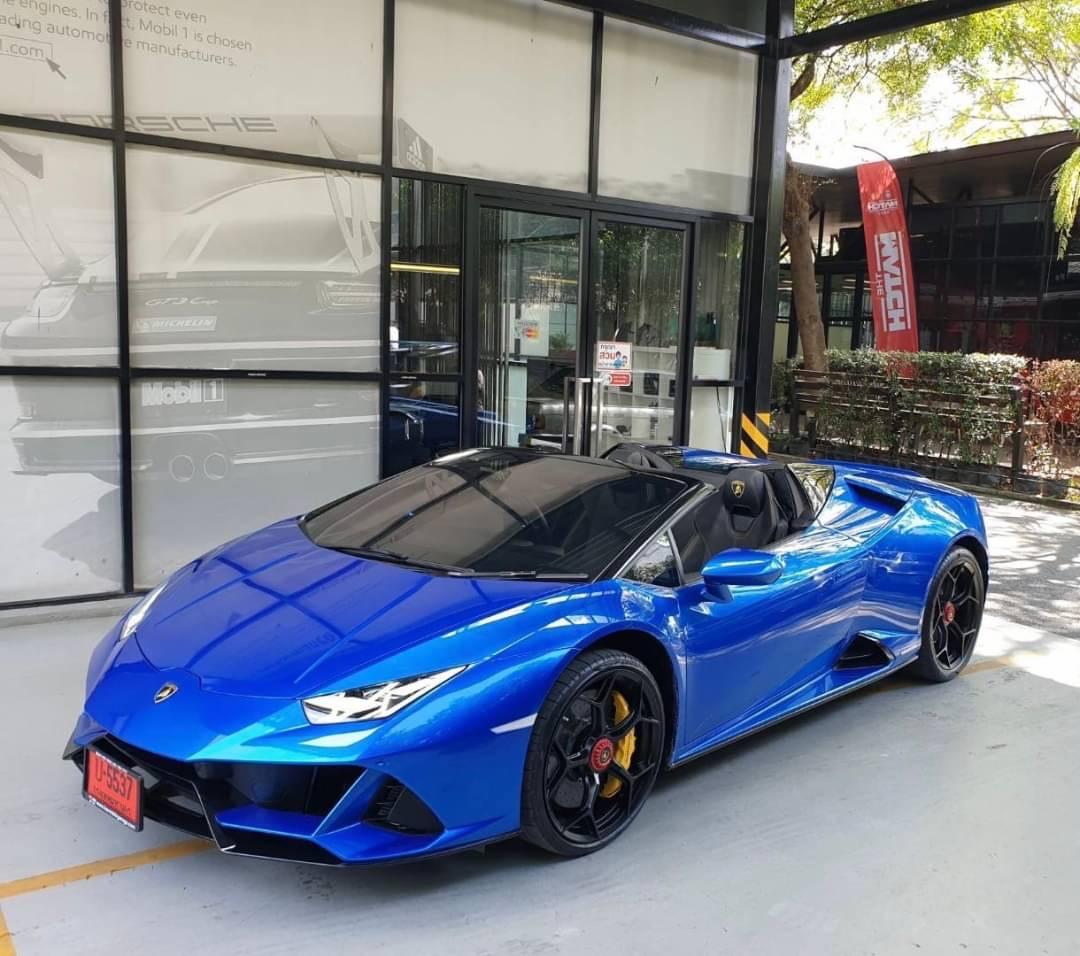license-plate: (83, 744, 146, 835)
